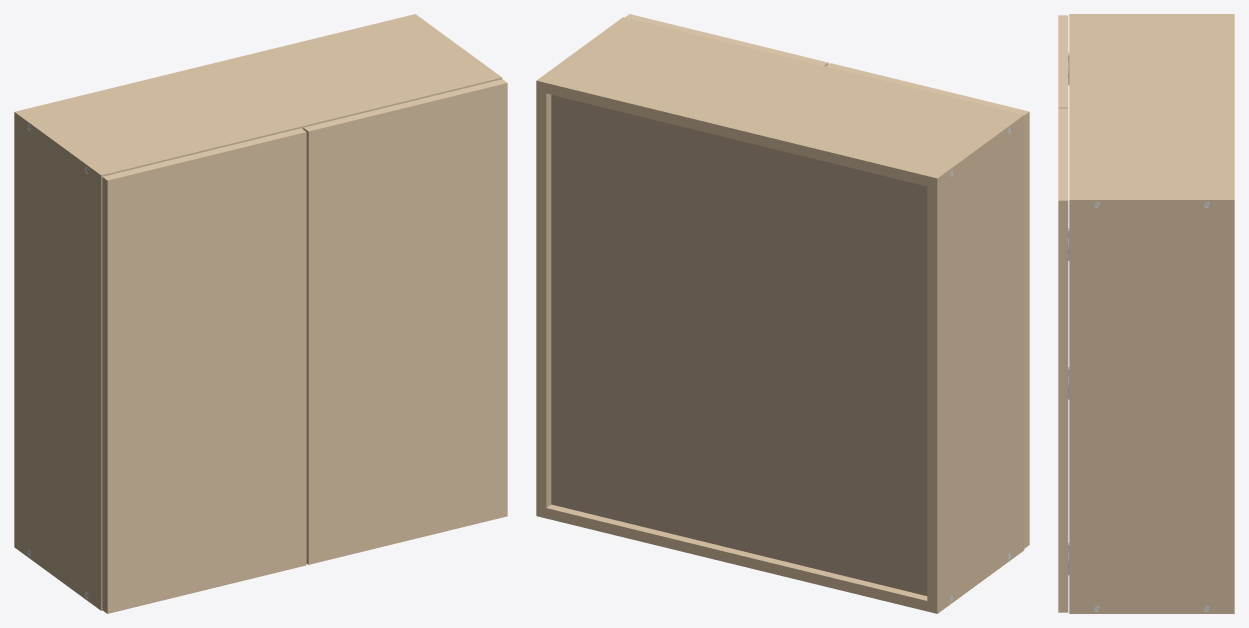
3 renders of one model, left to right at view 1: azimuth 30°, elevation 25°; view 2: azimuth 150°, elevation 25°; view 3: azimuth 270°, elevation 25°, orthographic. The views are drawn at different scales.
Visible parts, largest first — view 1: Door_L, Door_R, Side_L, Top, Side_R; view 2: Back, Side_L, Top, Side_R, Bottom, Door_L, Door_R; view 3: Side_R, Top, Door_R, Door_L, Side_L.
Boxes of the visible parts, bbox=[...] form: Door_L: bbox=[102, 128, 306, 613]; Door_R: bbox=[303, 79, 507, 564]; Side_L: bbox=[14, 109, 111, 610]; Top: bbox=[25, 16, 492, 174]; Side_R: bbox=[406, 14, 502, 81]; Back: bbox=[551, 95, 927, 595]; Side_L: bbox=[927, 112, 1024, 613]; Top: bbox=[546, 19, 1013, 186]; Side_R: bbox=[536, 17, 632, 518]; Bottom: bbox=[546, 504, 927, 611]; Door_L: bbox=[826, 63, 1029, 548]; Door_R: bbox=[625, 14, 828, 66]; Side_R: bbox=[1069, 195, 1234, 613]; Top: bbox=[1069, 18, 1234, 195]; Door_R: bbox=[1058, 108, 1068, 612]; Door_L: bbox=[1058, 15, 1068, 108]; Side_L: bbox=[1069, 14, 1234, 18].
Bounding box in the file's own units: 0.8 × 0.83 × 0.32.
